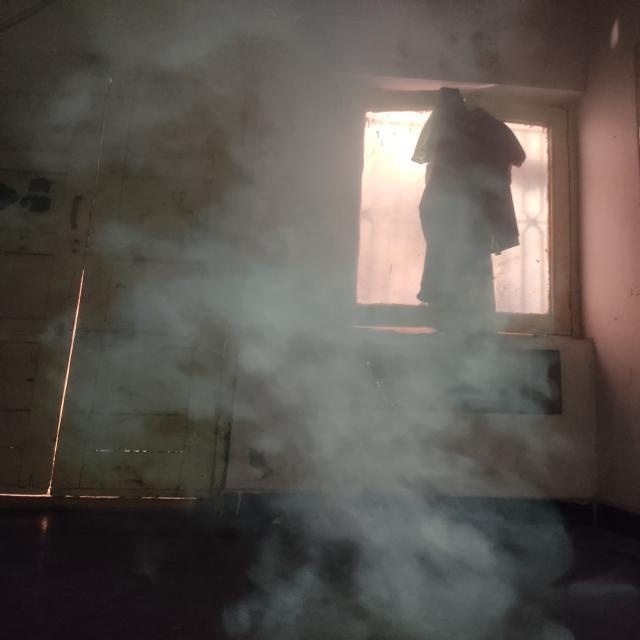smoke: (192, 242, 473, 604)
